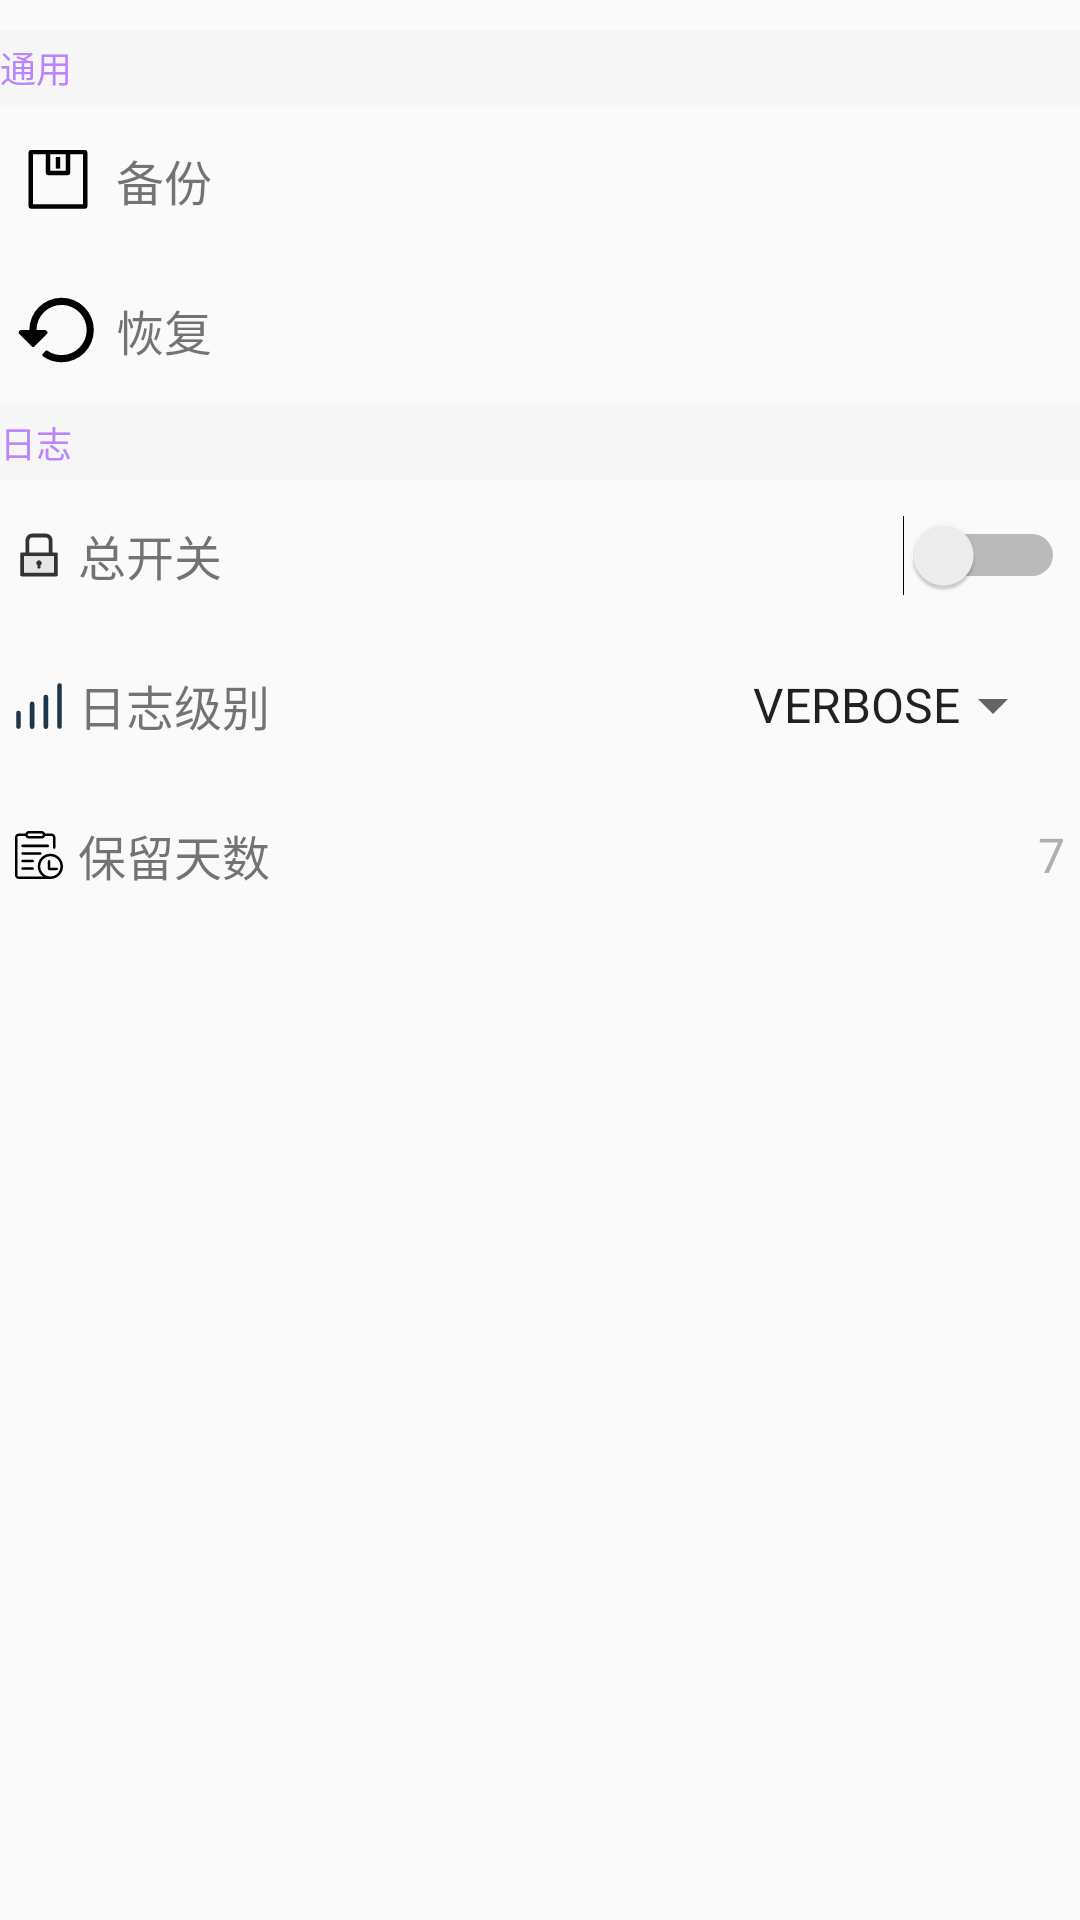

Where icons sit on this 1080px×1920px app screen, as box=[x1, y1, x2, y2]:
level: box=[16, 683, 62, 729]
lock: box=[20, 533, 58, 577]
